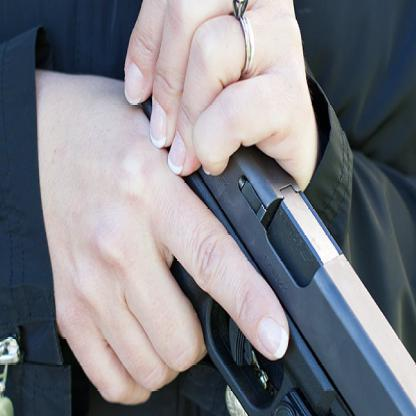gun: (86, 48, 416, 415)
